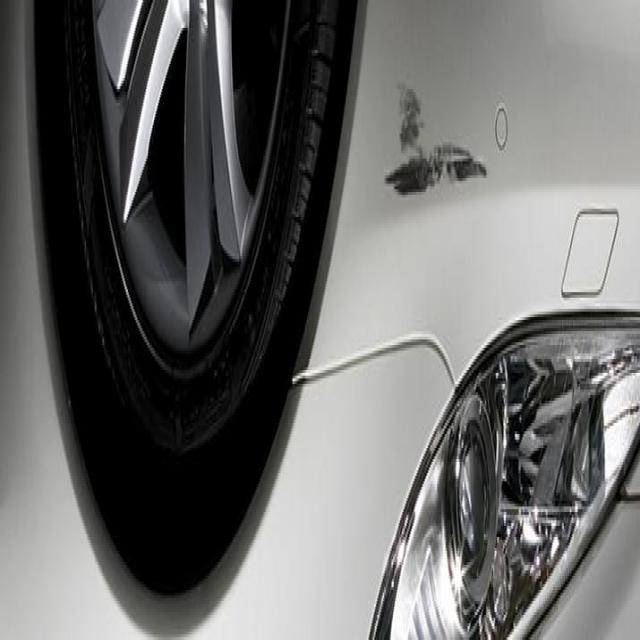scratch: (366, 82, 492, 194)
